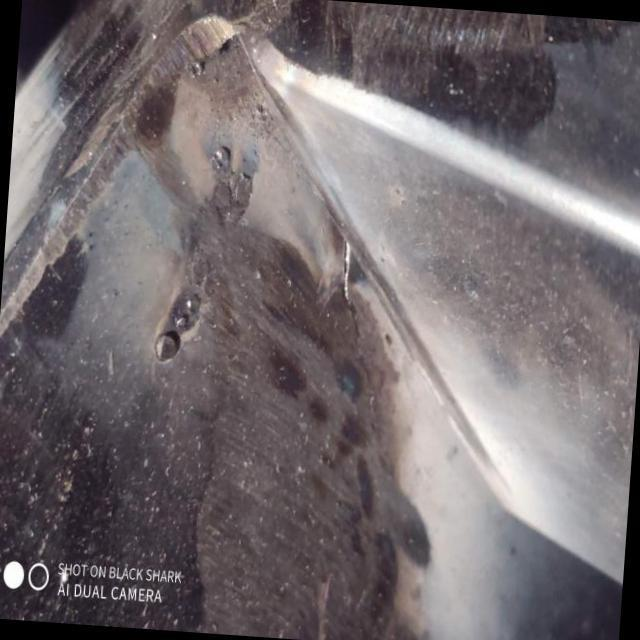defect: (334, 229, 384, 434)
